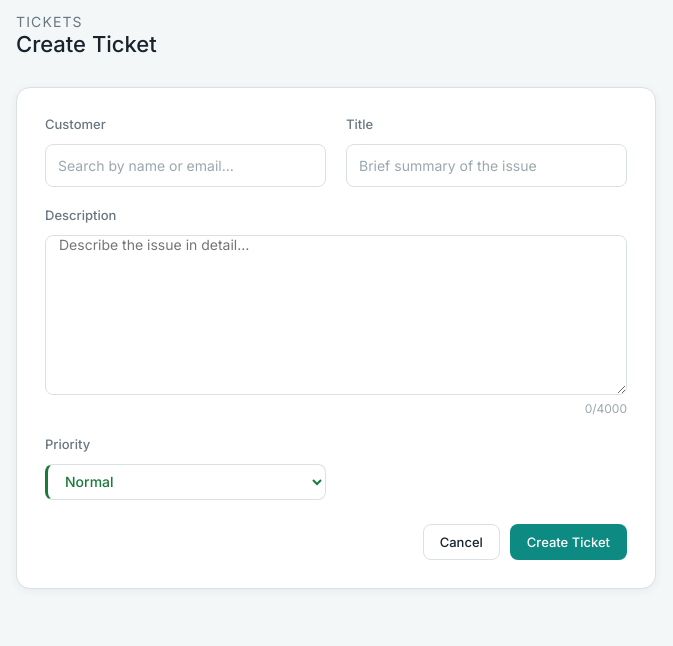
Test: TicketCreateView › shows a required error for empty title after a customer is selected
This screenshot has width=673, height=646.
Type "Alice Johnson" into the field with id "ticket-customer".
click(186, 165); type("Alice Johnson")  # box [45,144,326,187]
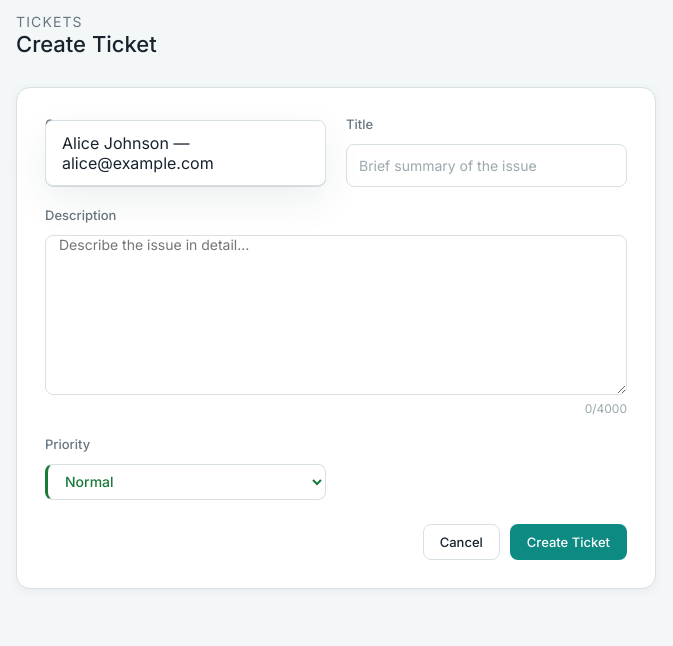
Click the list item "Alice Johnson — alice@example.com".
click(138, 153)  # box [62,133,214,173]
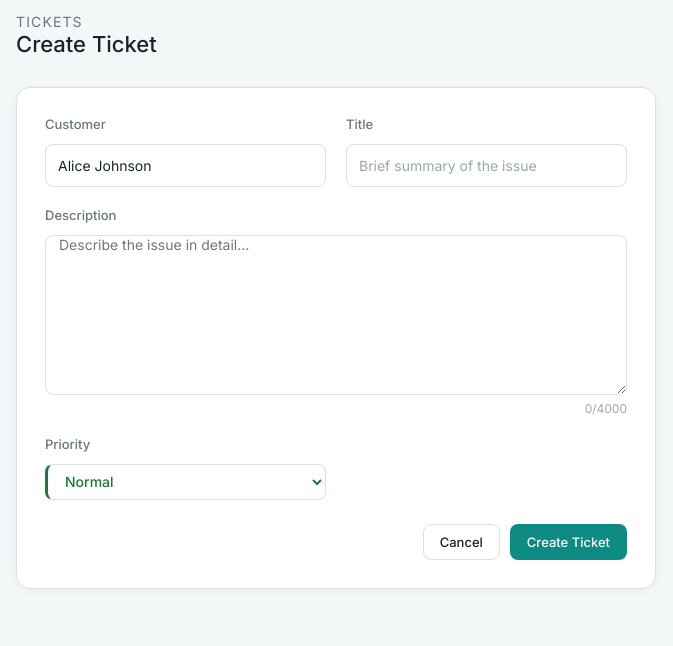
Type "Details" into the text box with id "ticket-description".
click(336, 315); type("Details")  # box [45,235,627,395]
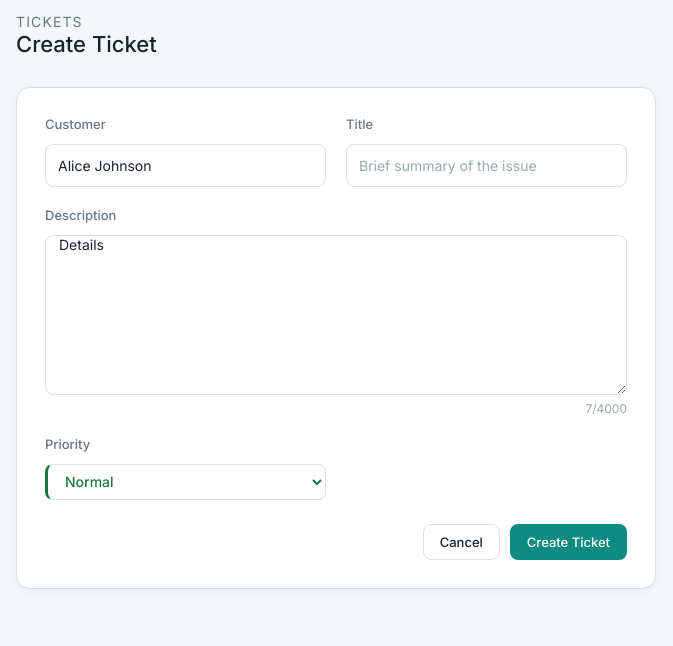
Submit the form
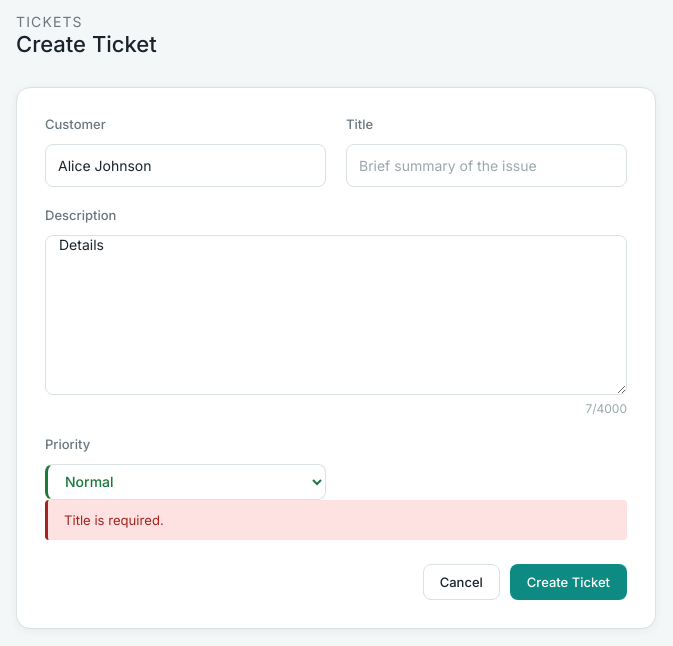
Check: the message "Title is required." is shown, box [45,500,627,540]
